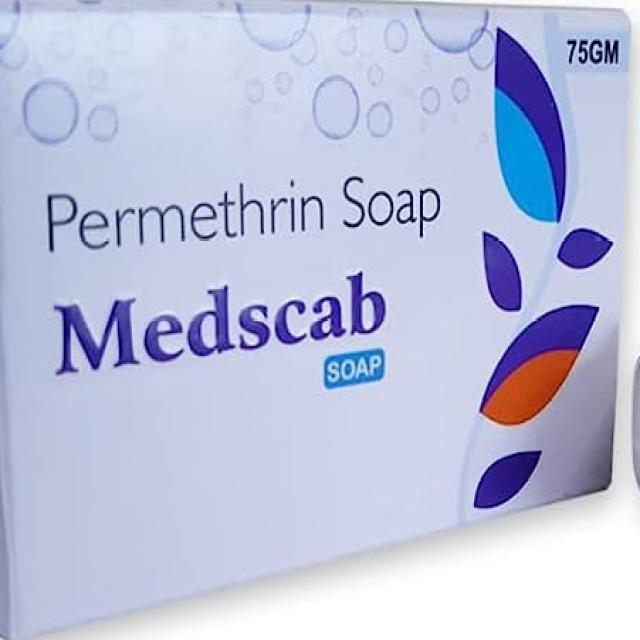drug-name: (51, 267, 390, 381)
